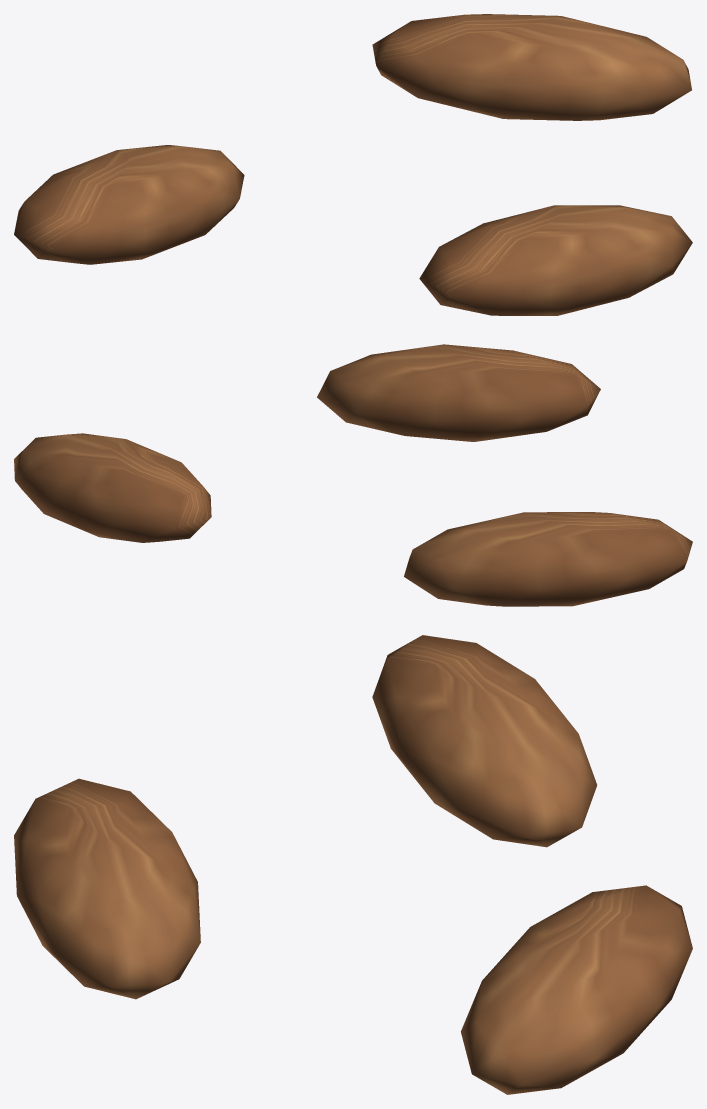
File: NP_Lavender_Seed.fbx
3 renders of one model, top to bottom at view 1: azimuth 30°, elevation 25°; view 2: azimuth 150°, elevation 25°; view 3: azimuth 270°, elevation 25°, orthographic. The views are drawn at different scales.
Parts seen in each view (by area): view 1: NP_Lavender_Seed; view 2: NP_Lavender_Seed; view 3: NP_Lavender_Seed.
Part boxes in pixels (box(x1,y1,x2,y2)): NP_Lavender_Seed: box(14, 14, 692, 315); NP_Lavender_Seed: box(14, 344, 692, 606); NP_Lavender_Seed: box(14, 635, 692, 1094).
Size of the model in its own units: 10.27 by 1.23 by 7.38.
Materials: 1 (1 with a texture image).
